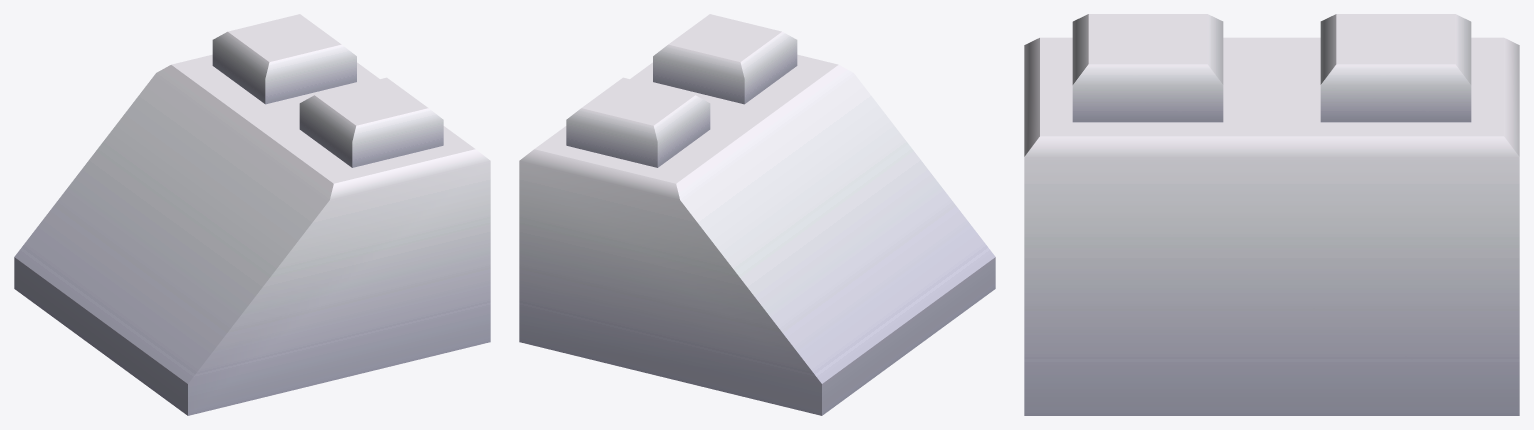
File: square-hq-brick-slope-2x2.glb
3 views of the same model, side by side, from view 1: azimuth 30°, elevation 25°; view 2: azimuth 150°, elevation 25°; view 3: azimuth 270°, elevation 25° (orthographic). The views are drawn at different scales.
Visible parts, largest first — view 1: square-hq-brick-slope-2x2; view 2: square-hq-brick-slope-2x2; view 3: square-hq-brick-slope-2x2.
Part boxes in pixels (box(x1,y1,x2,y2)): square-hq-brick-slope-2x2: box(14, 14, 490, 415); square-hq-brick-slope-2x2: box(519, 14, 995, 415); square-hq-brick-slope-2x2: box(1024, 14, 1519, 415).
Bounding box in the file's own units: 0.159 × 0.114 × 0.158.
Materials: 1 (1 with a texture image).
